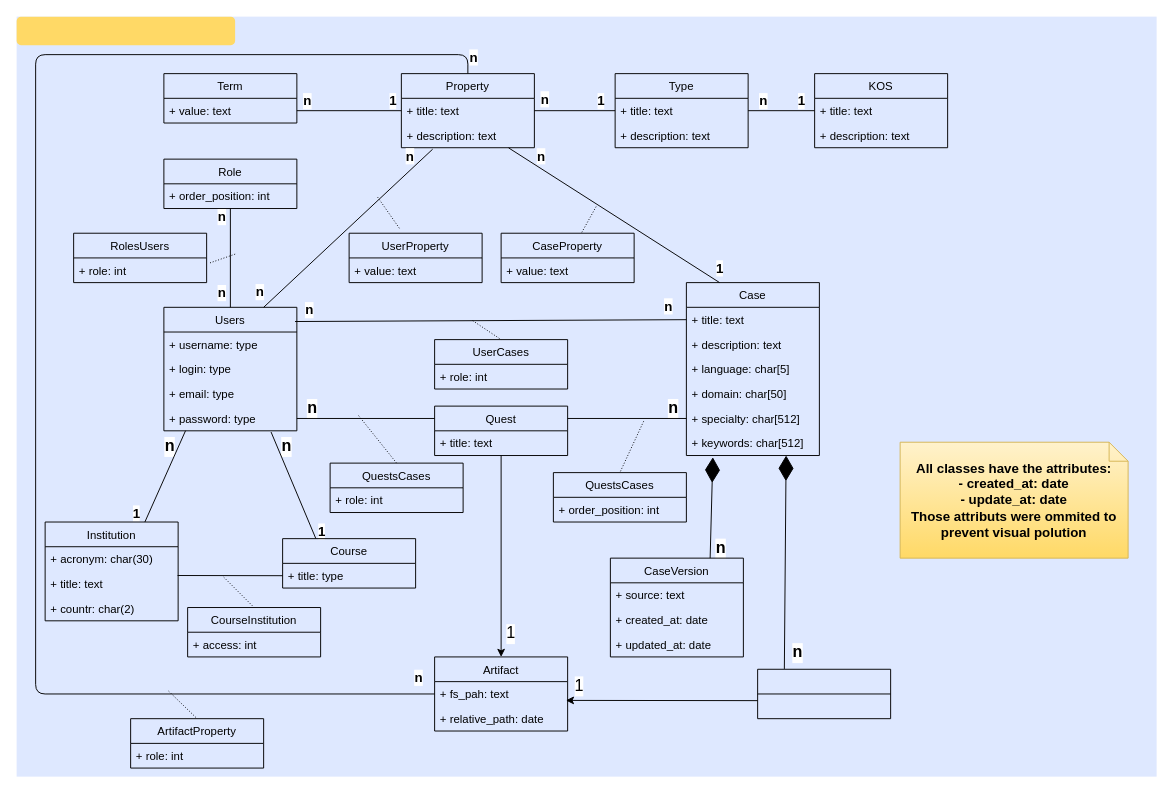
Some shapes in this 1172 by 792 pixel diagram are drawn without their labels. Each missing label, with the centre of its shape:
"CaseArtifacts" goes at (x=824, y=693).
"Class Diagram v1_0_20" goes at (x=125, y=30).
